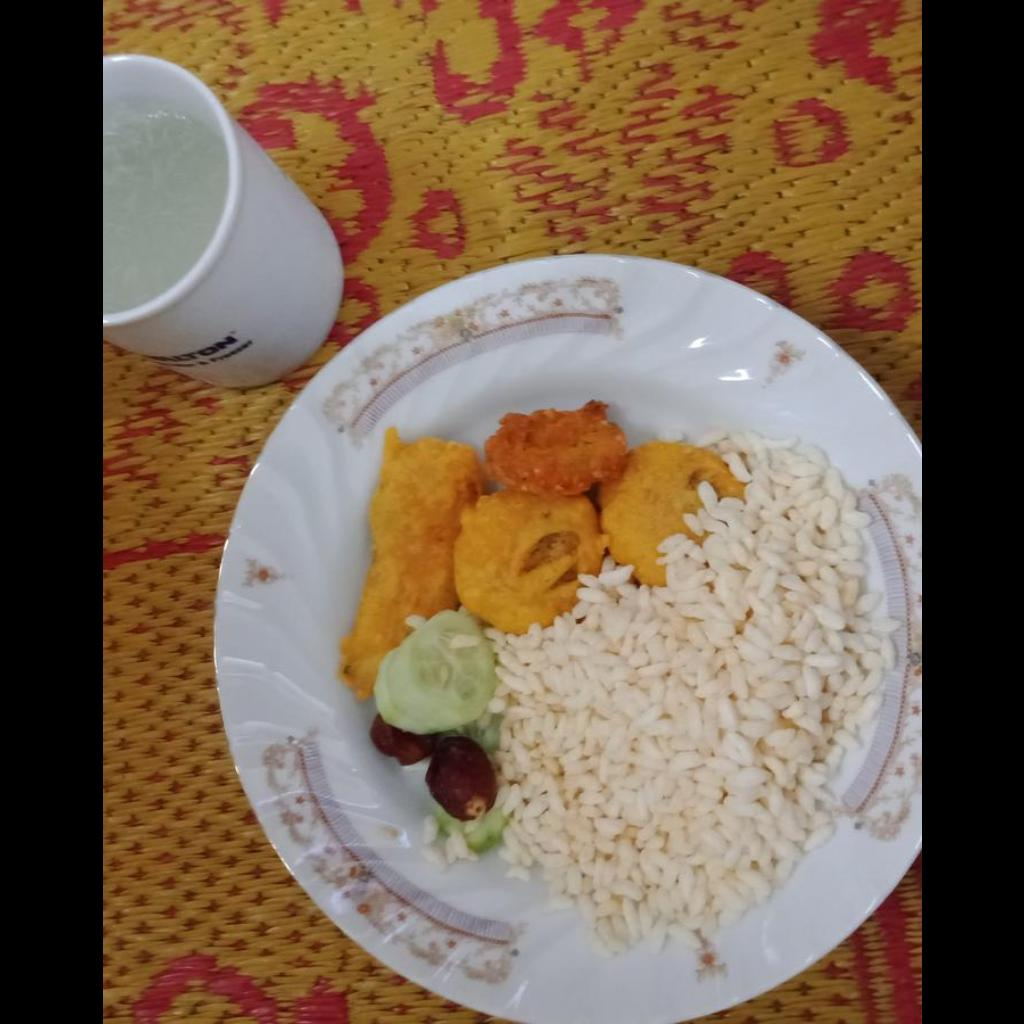beguni: (340, 429, 484, 697)
chop-alu: (454, 441, 743, 634)
cucumber: (374, 609, 496, 734)
dates: (371, 715, 497, 820)
peyaju: (486, 401, 628, 499)
puffed-rice: (482, 429, 895, 957)
